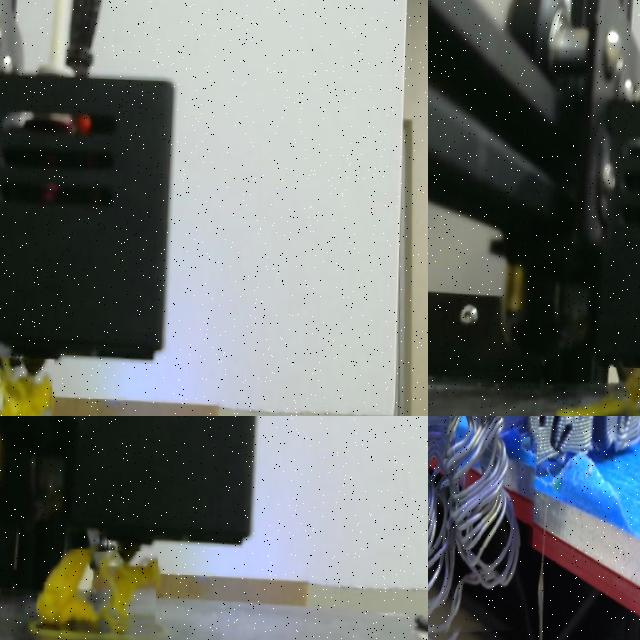spaghetti: (428, 416, 542, 640), (37, 549, 158, 627), (556, 367, 640, 416), (0, 357, 53, 416)
